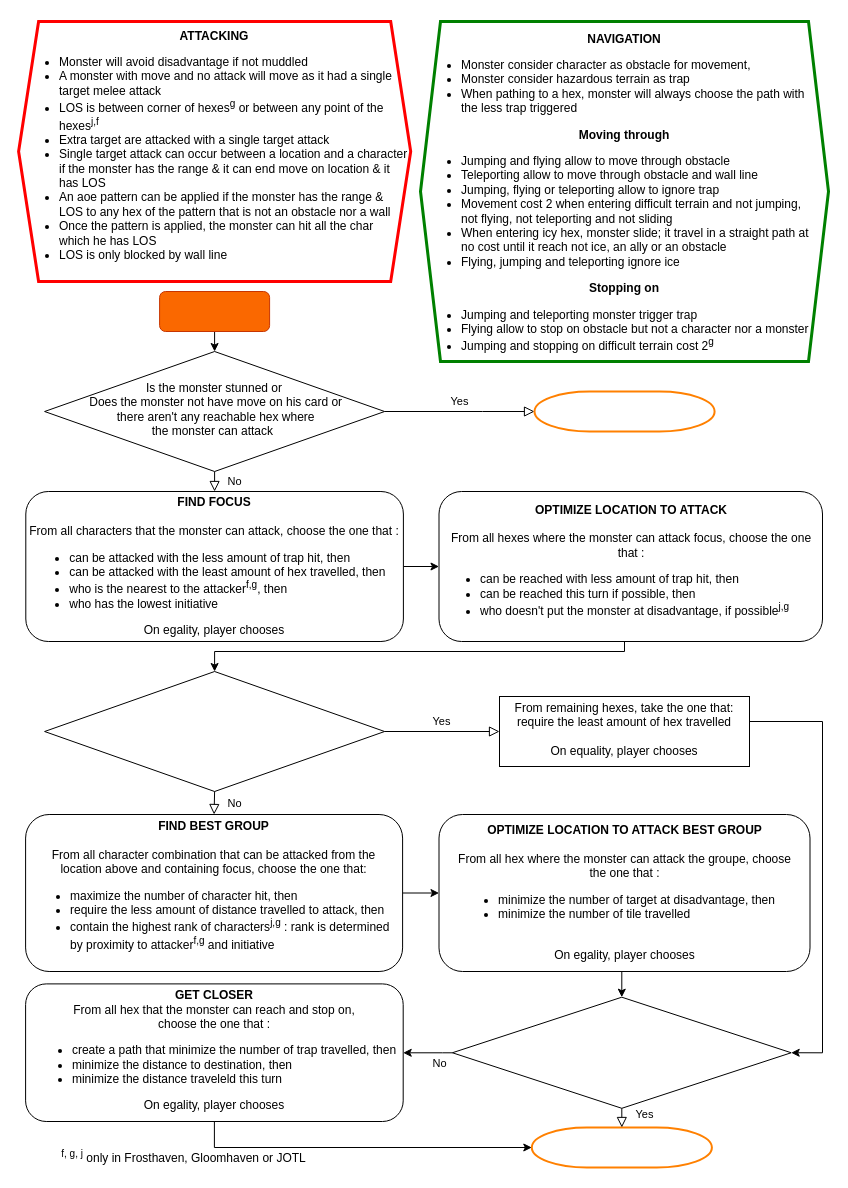
The diagram is 848 pixels wide and 1188 high, and some of its shapes have lost their labels. Each missing label, with the box of its shape:
Can the monster reach the destination this turn ?: (451, 996, 791, 1108)
Monster does not move: (533, 390, 715, 432)
Monster move to this destination: (530, 1126, 712, 1168)
Single target attack or (cannot reach hex to attack focus) f ?: (44, 670, 385, 792)
Start: (159, 290, 270, 332)
